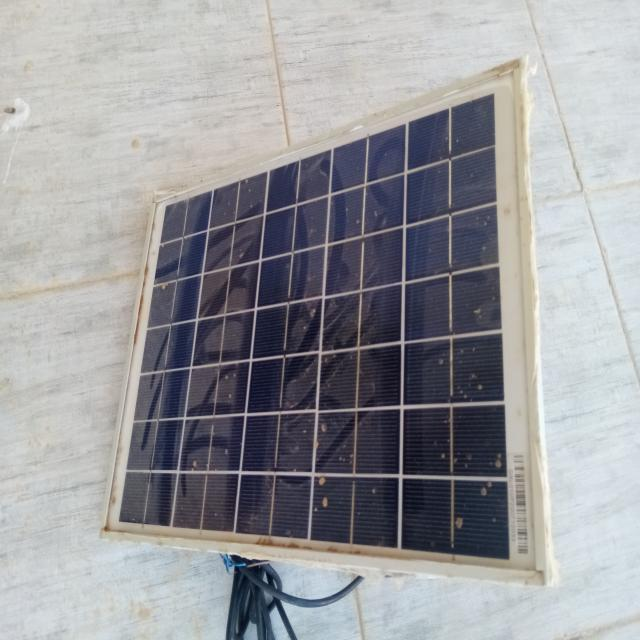faulty: (99, 66, 544, 581)
